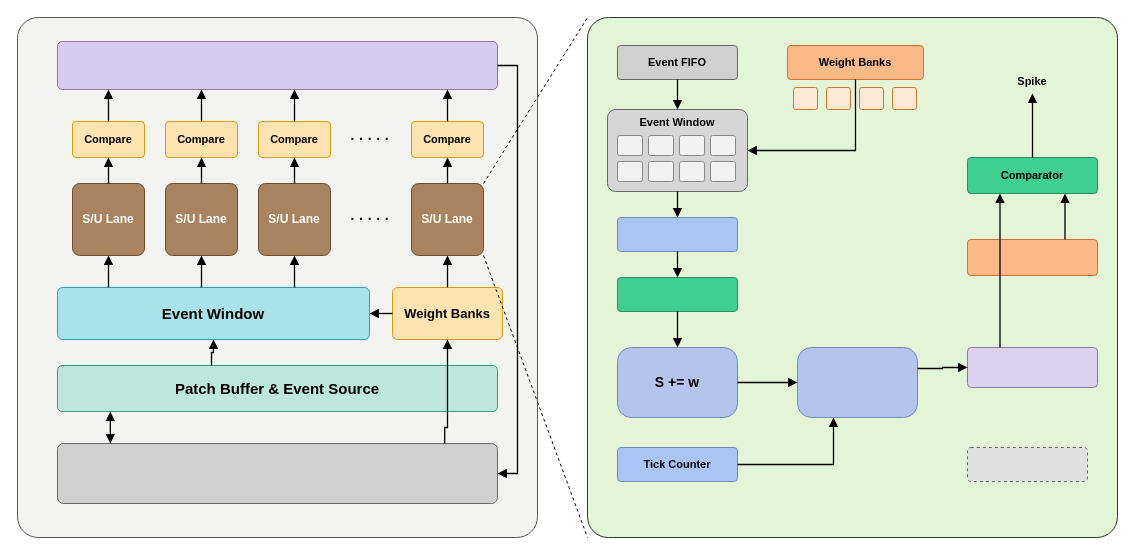
Some shapes in this 1135 by 556 pixel diagram are drawn without their labels. Here are the shapes that lost their labels. From the top down, the centre of each, then its label:
At point (277, 65): "Spike Compaction".
At point (677, 234): "Pending Mask".
At point (1032, 257): "Threshold Table".
At point (677, 294): "Oldest-Pending Pick".
At point (857, 382): "U += S".
At point (1032, 367): "Membrane SRAM".
At point (277, 473): "Global Buffer (SRAM)".
At point (1027, 464): "Clock Gate".
